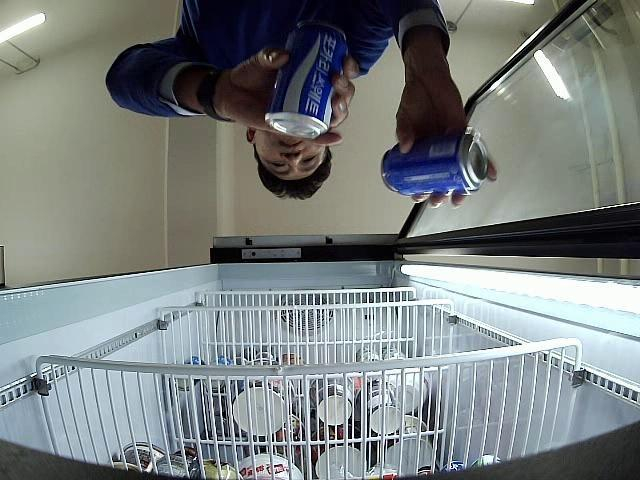13_pocariSweat: (264, 25, 348, 136), (382, 128, 489, 195)
